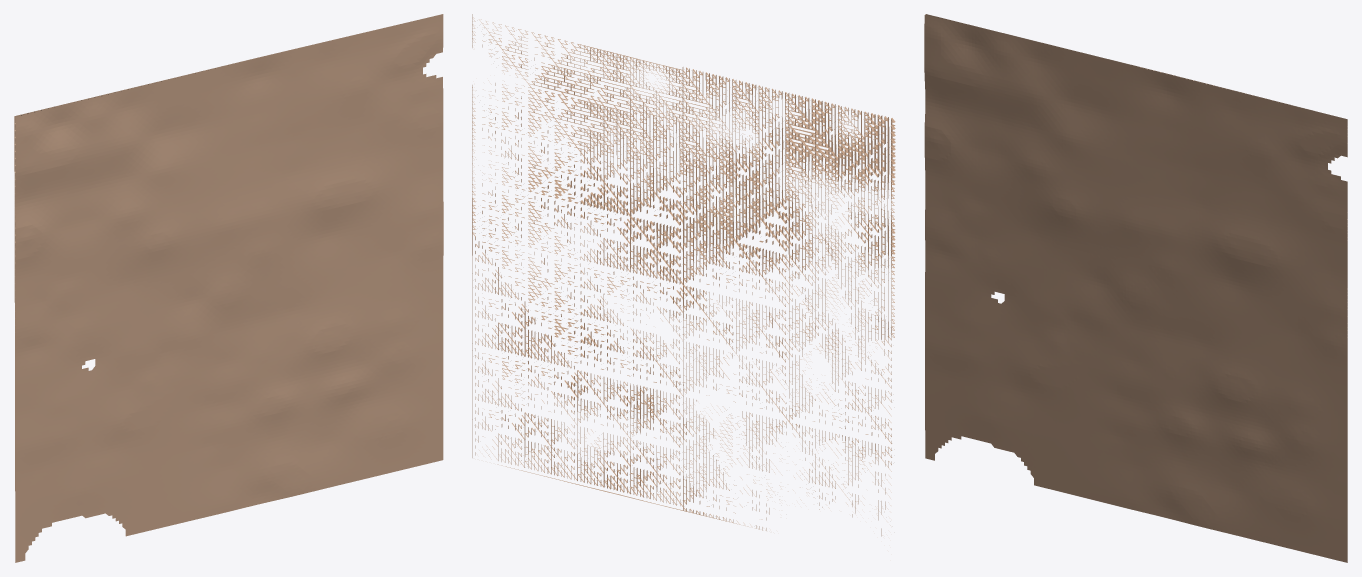
3 views of the same model, side by side, from view 1: azimuth 30°, elevation 25°; view 2: azimuth 150°, elevation 25°; view 3: azimuth 330°, elevation 25° (orthographic).
Parts seen in each view (by area): view 1: world; view 2: world; view 3: world.
Boxes of the visible parts, box(x1,y1,x2,y2) form: world: box(14, 14, 443, 562); world: box(472, 14, 895, 536); world: box(924, 14, 1347, 562).
Bounding box in the file's own units: 12800 × 12800 × 159.
